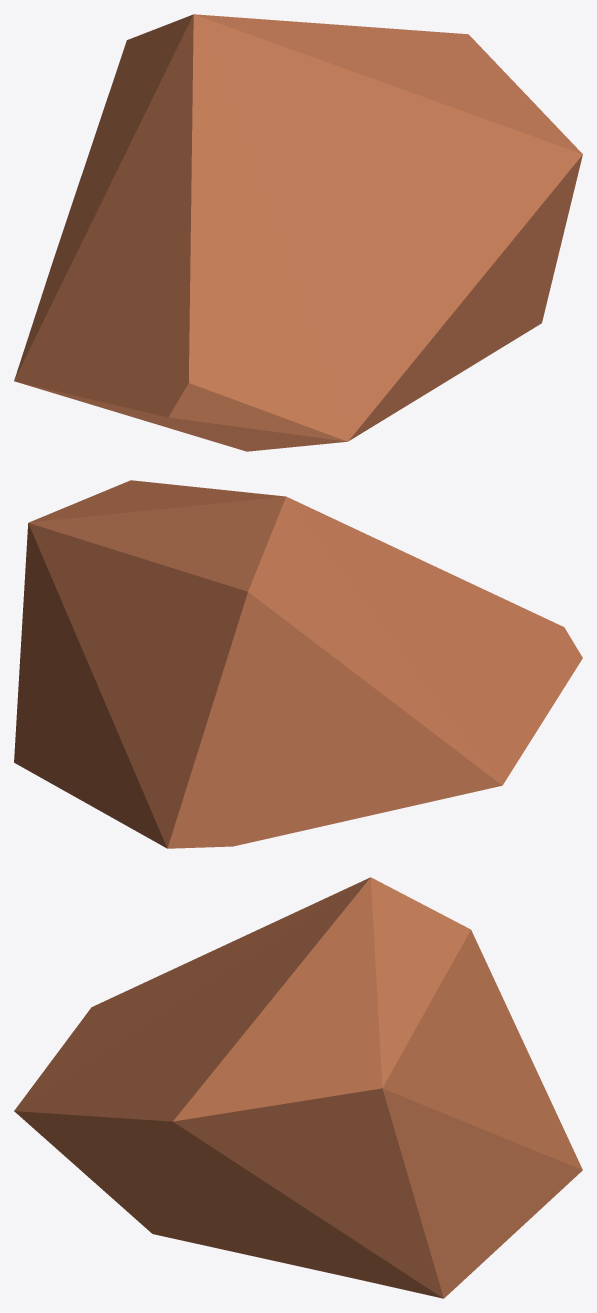
The model's file is Small_Rock_002.fbx.
The picture shows the model from 3 angles, top to bottom: view 1: azimuth 30°, elevation 25°; view 2: azimuth 150°, elevation 25°; view 3: azimuth 270°, elevation 25°; orthographic projection. The views are drawn at different scales.
Parts seen in each view (by area): view 1: Small_Rock_002; view 2: Small_Rock_002; view 3: Small_Rock_002.
Part boxes in pixels (x1,y1,x2,y2): Small_Rock_002: (14, 14, 582, 451); Small_Rock_002: (14, 480, 582, 848); Small_Rock_002: (14, 877, 582, 1298).
Size of the model in its own units: 0.4991 by 0.3691 by 0.5461.
